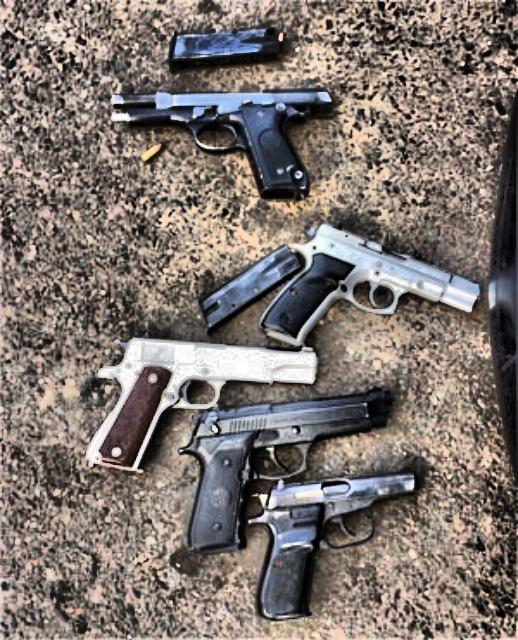pistol: (172, 386, 390, 550), (82, 339, 322, 473), (252, 218, 484, 340), (106, 84, 336, 204), (244, 467, 420, 617)
